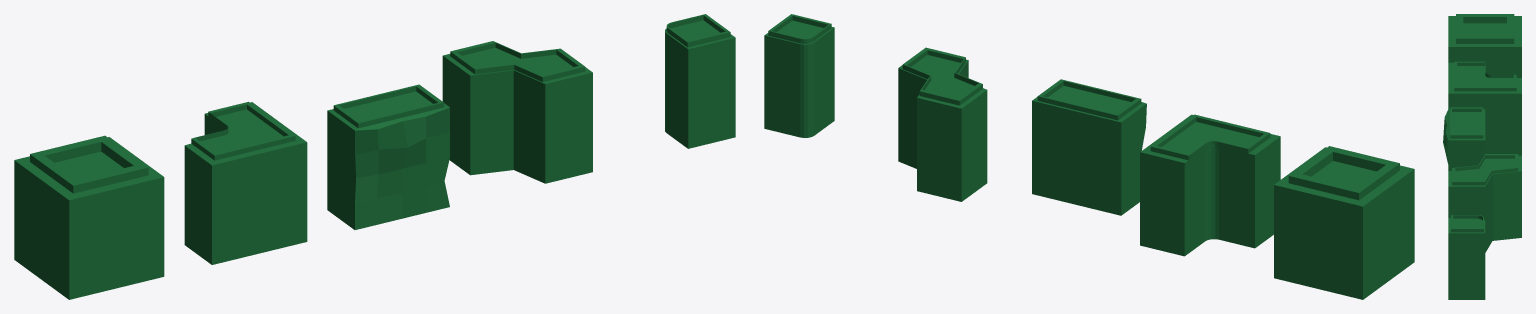
Rendered from tileset_default.glb.
3 renders of one model, left to right at view 1: azimuth 30°, elevation 25°; view 2: azimuth 150°, elevation 25°; view 3: azimuth 270°, elevation 25°, orthographic. The views are drawn at different scales.
Parts seen in each view (by area): view 1: full_col, diagonal_corner_col, T_col, edge_col, corner_col; view 2: full_col, T_col, edge_col, diagonal_corner_col, corner_col; view 3: diagonal_corner_col, T_col, full_col, corner_col, edge_col.
Boxes of the visible parts, bbox=[...] form: full_col: bbox=[14, 135, 164, 299]; diagonal_corner_col: bbox=[442, 41, 592, 183]; T_col: bbox=[184, 101, 307, 264]; edge_col: bbox=[327, 84, 449, 229]; corner_col: bbox=[665, 14, 735, 148]; full_col: bbox=[1274, 146, 1414, 299]; T_col: bbox=[1140, 114, 1280, 256]; edge_col: bbox=[1032, 79, 1146, 215]; diagonal_corner_col: bbox=[898, 47, 987, 201]; corner_col: bbox=[764, 14, 834, 137]; diagonal_corner_col: bbox=[1448, 154, 1521, 252]; T_col: bbox=[1448, 61, 1521, 155]; full_col: bbox=[1448, 14, 1521, 77]; corner_col: bbox=[1448, 215, 1485, 299]; edge_col: bbox=[1443, 107, 1485, 171].
Size of the model in its own units: 7 by 1.08 by 1.07.
